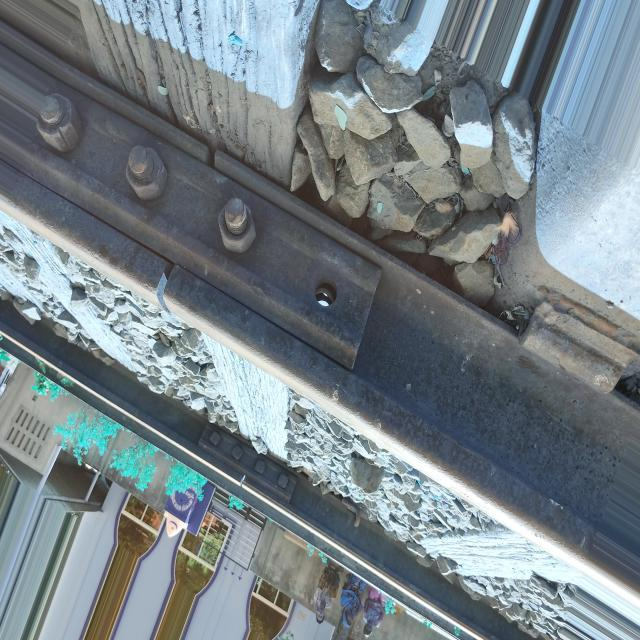Defective Joint: (17, 86, 380, 370)
Good Joint: (198, 427, 295, 504)
